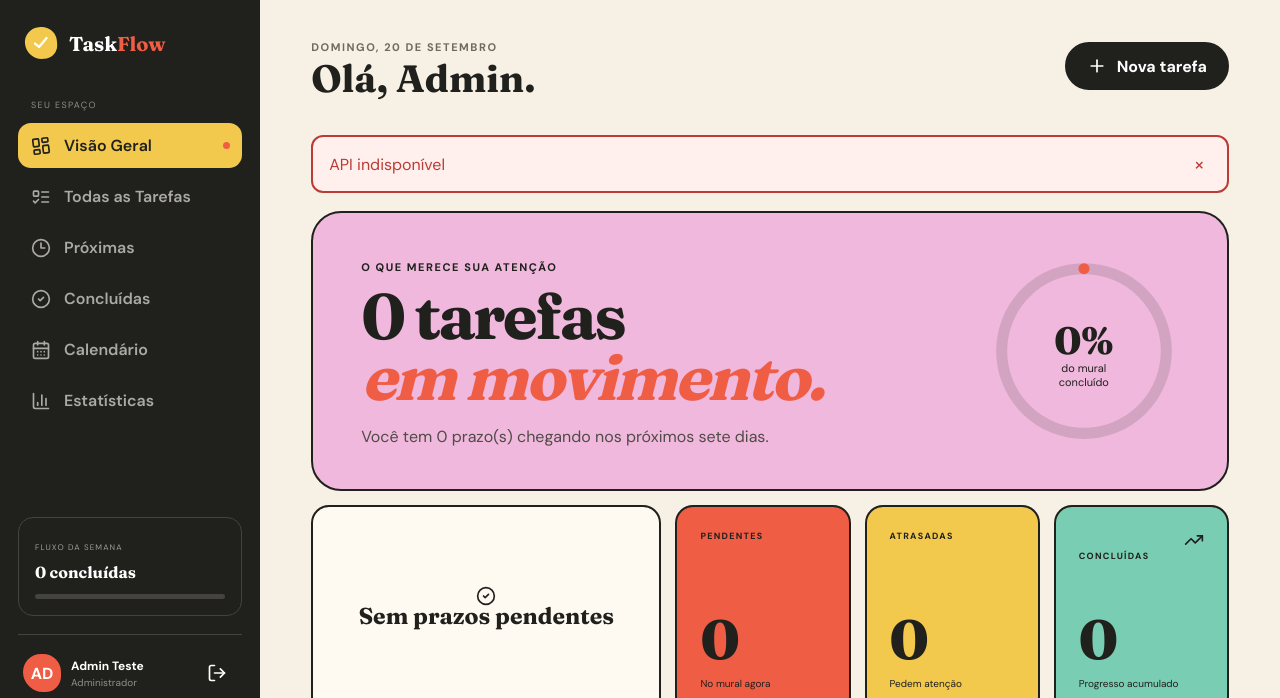
it: App tarefas e visualizações › mostra falha de carregamento e permite fechar aviso
Expected: the message shows "API indisponível", [329,154,445,175]
Click the button named "Fechar aviso": (1199, 164) [1188,150,1211,178]
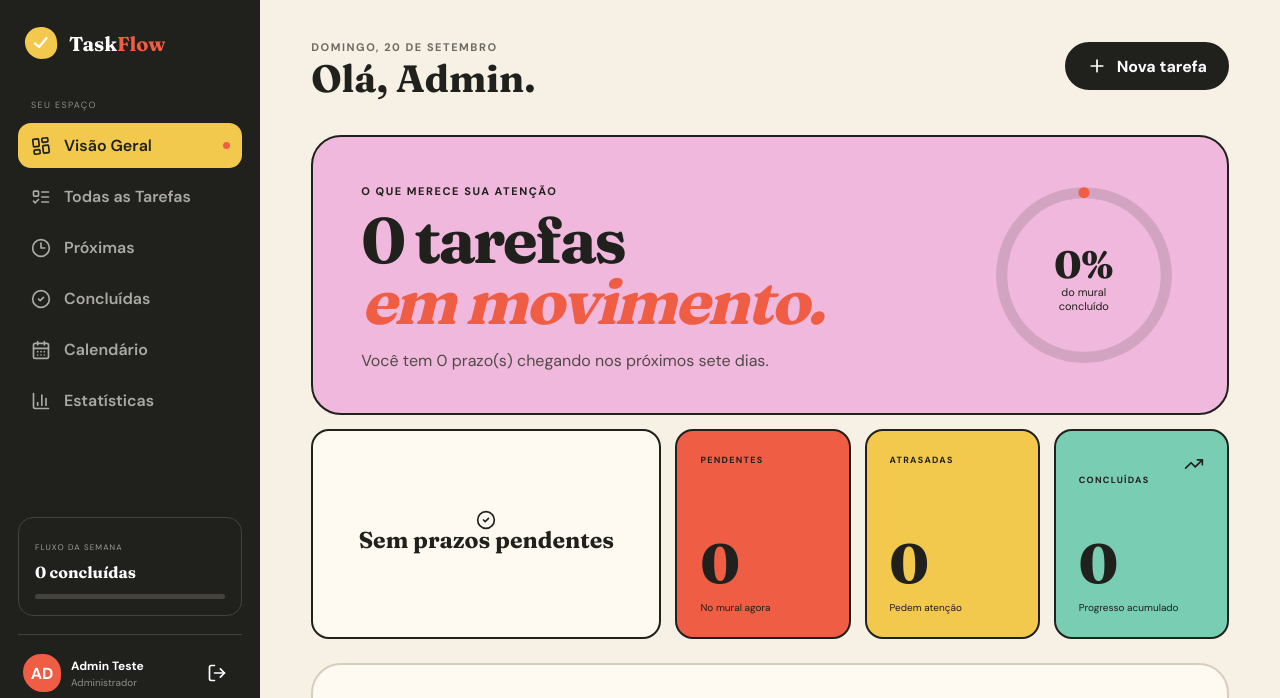
Result: the message "API indisponível ×" is gone
